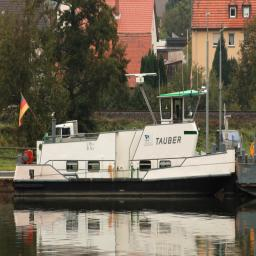tugboat: (11, 72, 239, 207)
